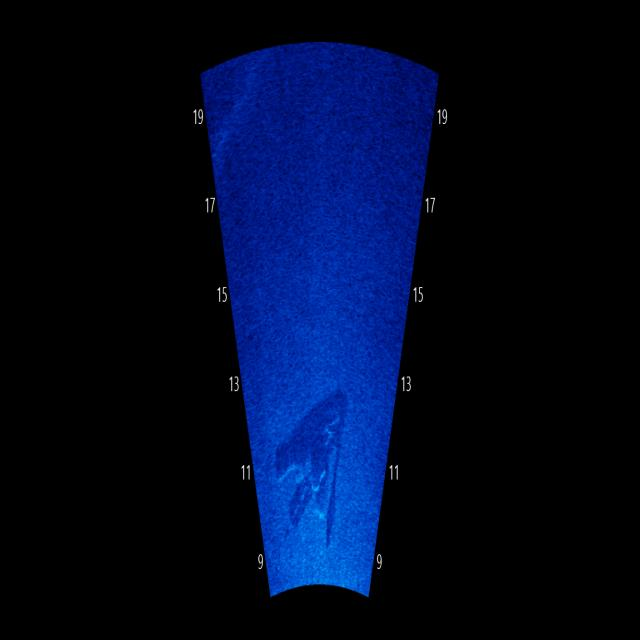triangle: (284, 325, 358, 561)
